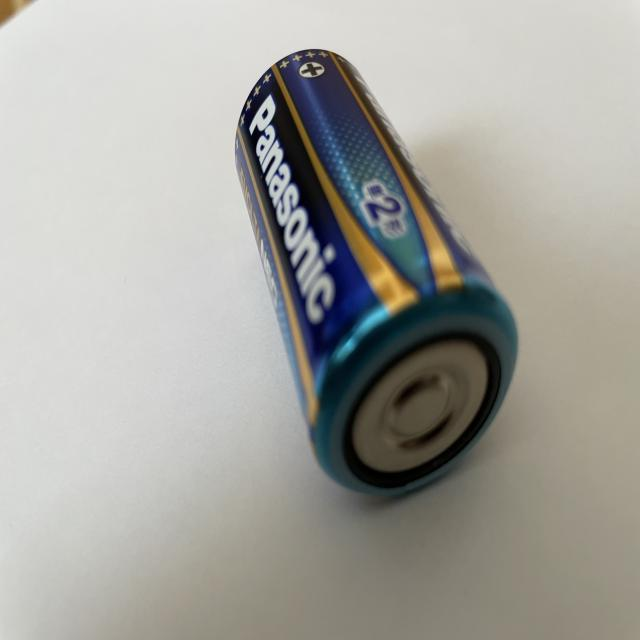hazardous waste: (231, 45, 518, 504)
